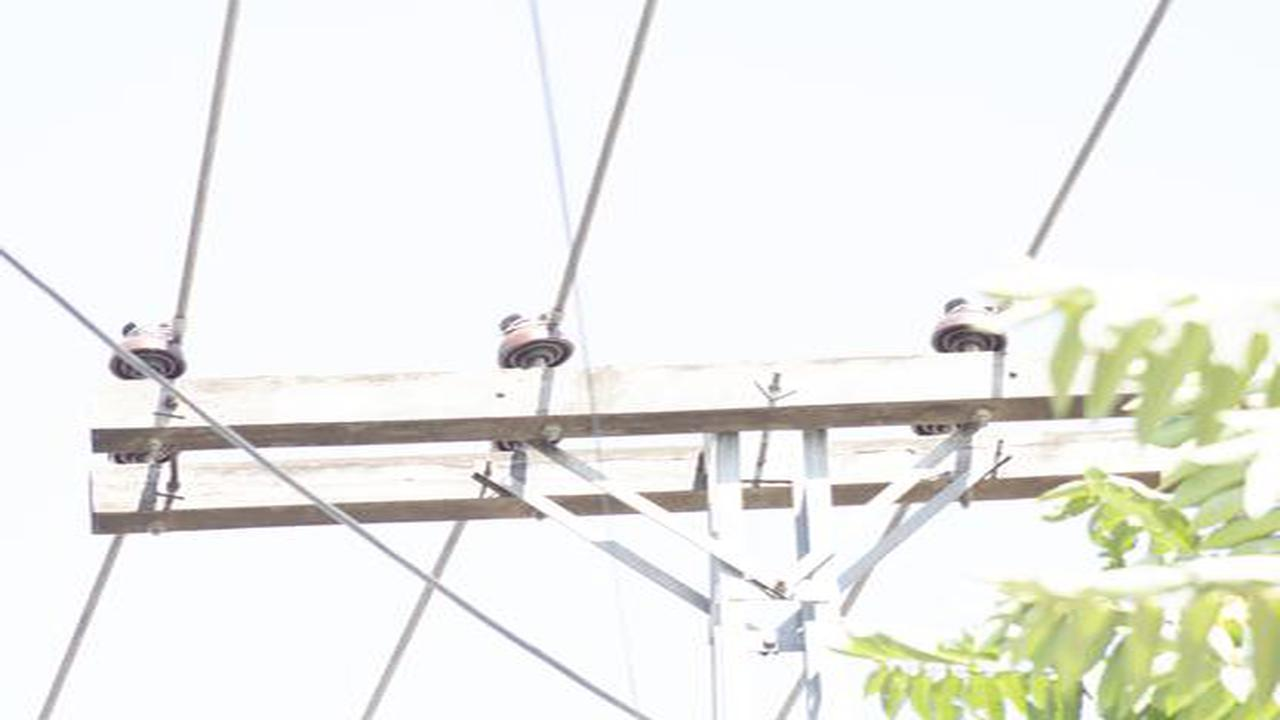insulator_pin: (928, 289, 1011, 362), (103, 317, 190, 377), (495, 307, 580, 367)
